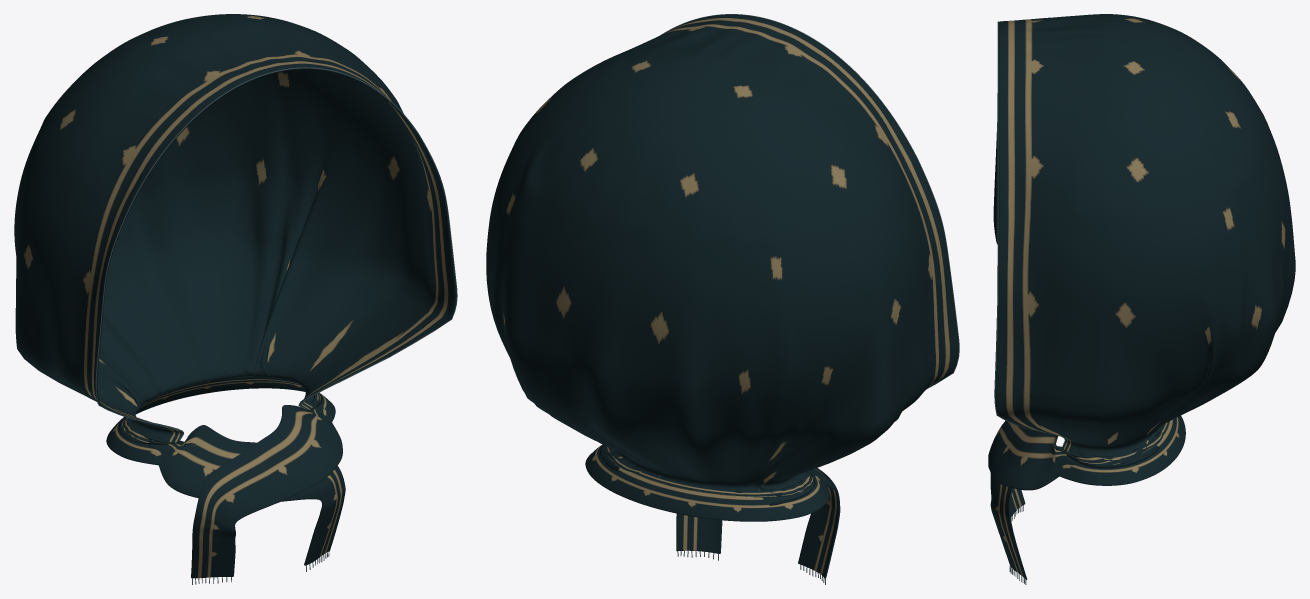
Rendered from Feminine-jersey-pashmina237-headgear.glb.
The picture shows the model from 3 angles, left to right: view 1: azimuth 30°, elevation 25°; view 2: azimuth 150°, elevation 25°; view 3: azimuth 270°, elevation 25°; orthographic projection. The views are drawn at different scales.
Parts seen in each view (by area): view 1: 226 headgear / Headwear / continuous woven pashmina237, 226 headgear / Headwear / face edge237; view 2: 226 headgear / Headwear / continuous woven pashmina237, 226 headgear / Headwear / face edge237; view 3: 226 headgear / Headwear / continuous woven pashmina237, 226 headgear / Headwear / face edge237.
Part boxes in pixels (left/top/right/bottom): 226 headgear / Headwear / continuous woven pashmina237: left=14, top=14, right=456, bottom=578; 226 headgear / Headwear / face edge237: left=95, top=67, right=457, bottom=439; 226 headgear / Headwear / continuous woven pashmina237: left=486, top=14, right=958, bottom=578; 226 headgear / Headwear / face edge237: left=661, top=14, right=959, bottom=388; 226 headgear / Headwear / continuous woven pashmina237: left=988, top=14, right=1295, bottom=579; 226 headgear / Headwear / face edge237: left=994, top=21, right=1065, bottom=446.
Size of the model in its own units: 1.02 by 1.35 by 0.7252.
Materials: 3 (1 with a texture image).
